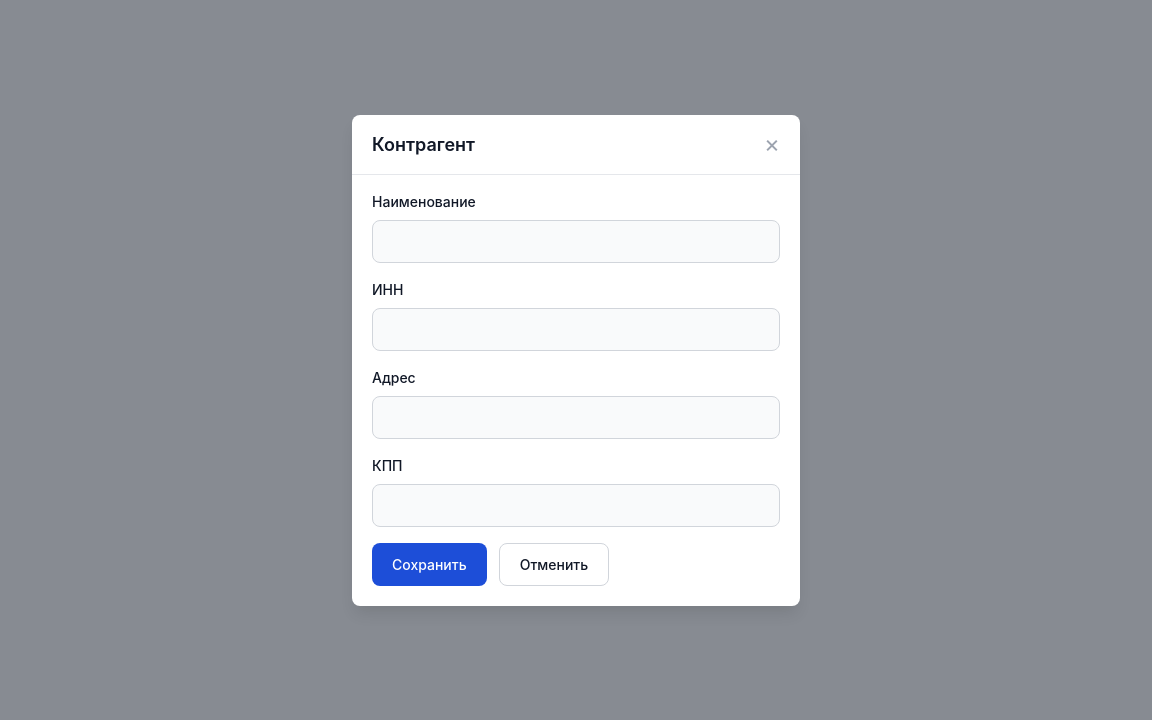
Test: Modal › shows validation errors for invalid inn and kpp
The width and height of the screenshot is (1152, 720).
Type "ООО Тест" into the field labelled "Наименование" at (576, 241), box [372,220,780,262]
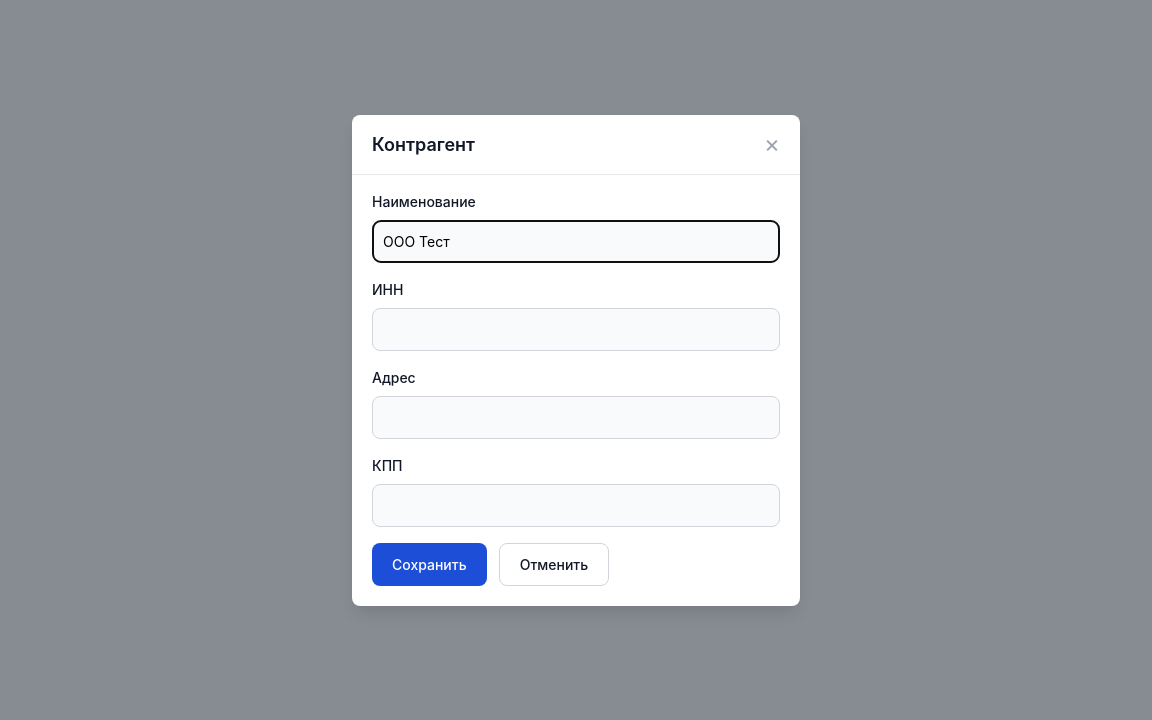
Type "123" into the field labelled "ИНН" at (576, 329), box [372,308,780,350]
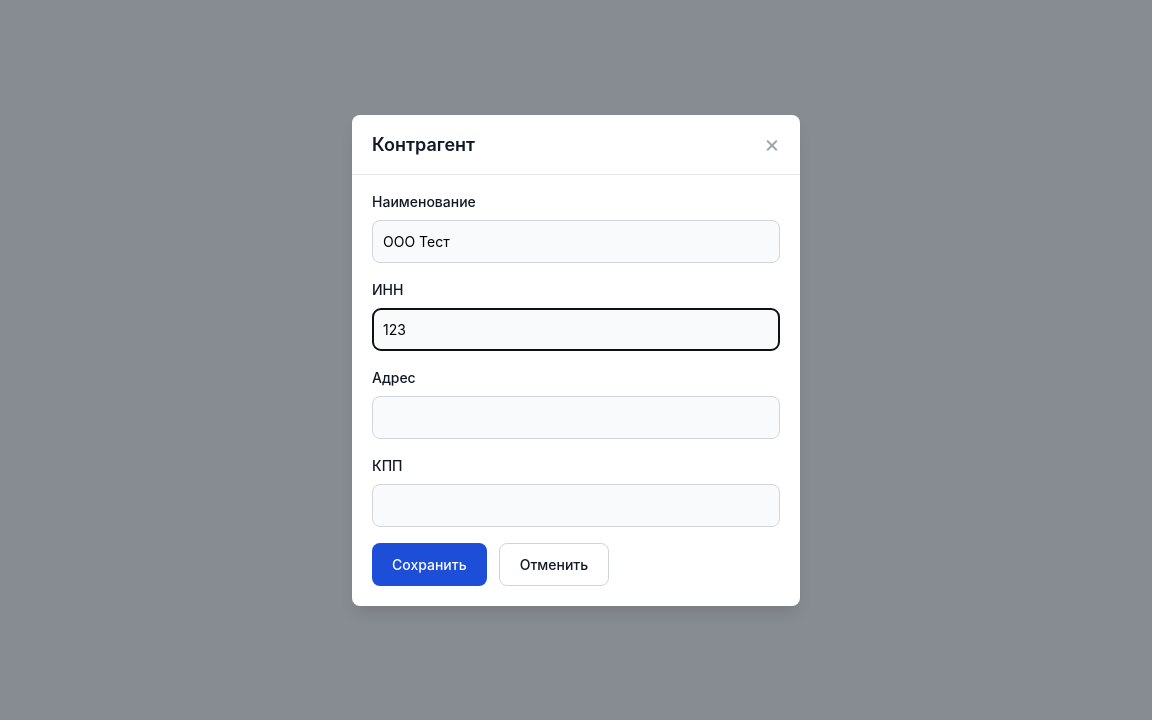
Type "Москва" into the field labelled "Адрес" at (576, 417), box [372,396,780,438]
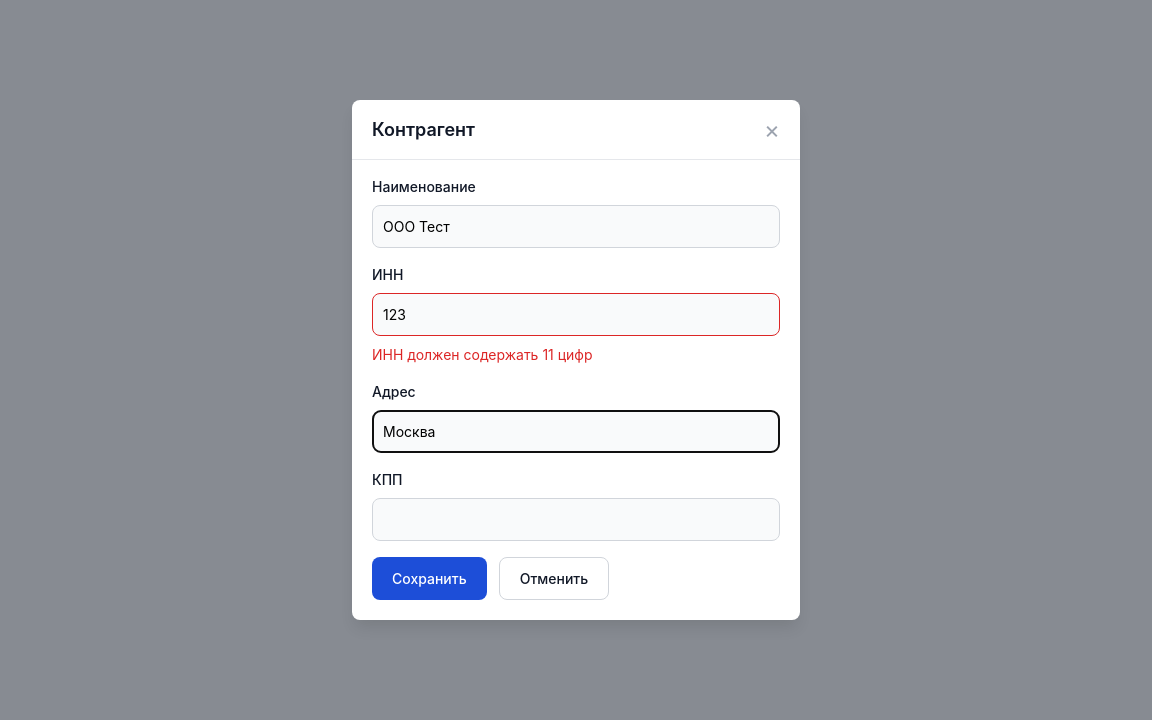
Type "12" into the field labelled "КПП" at (576, 520), box [372,498,780,541]
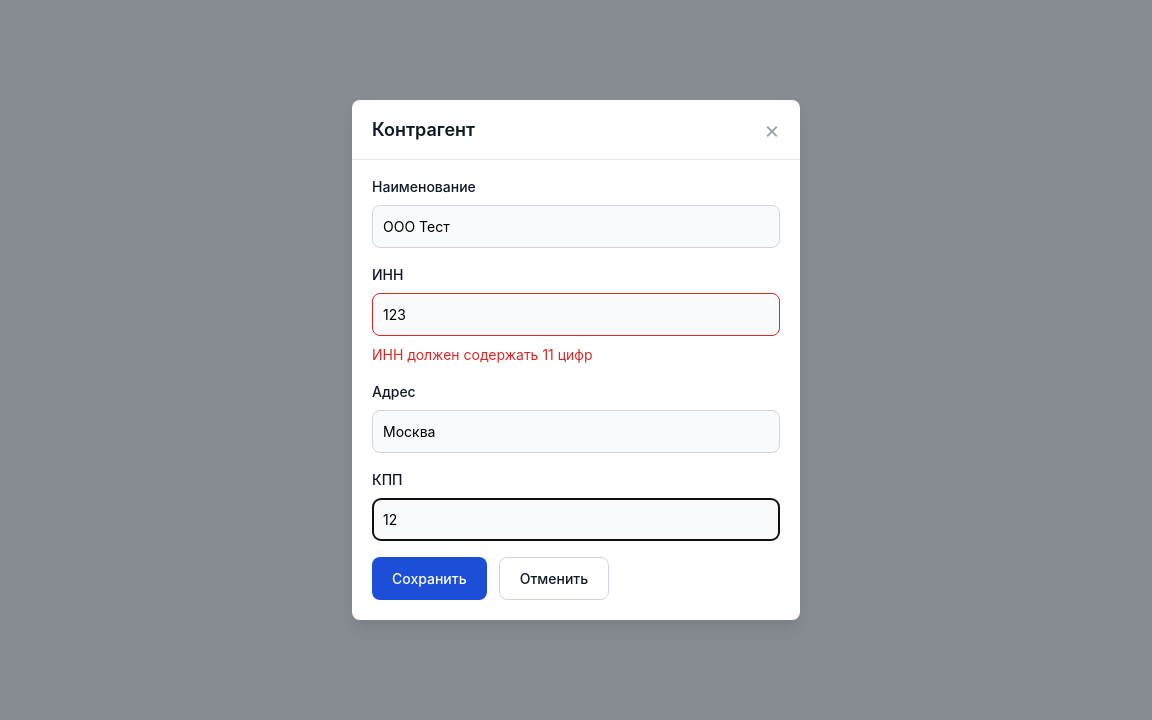
Click the button "Сохранить" at (429, 578), box [372,557,487,600]
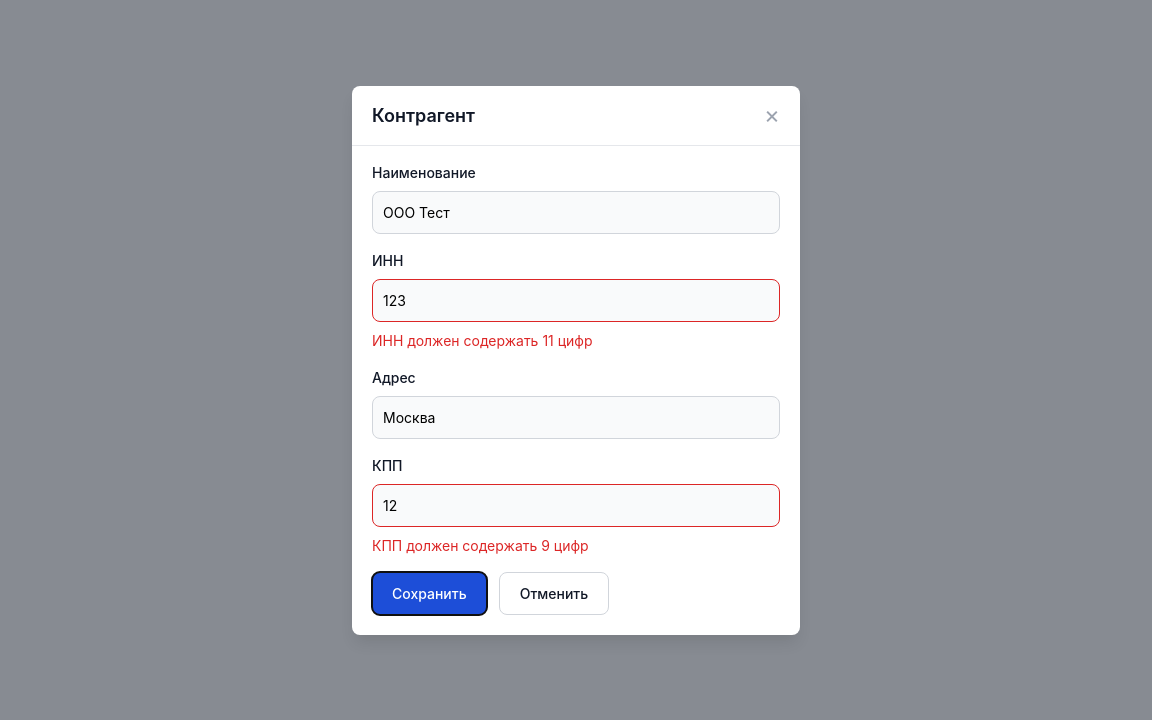
Result: the text "ИНН должен содержать 11 цифр" is shown at [372,332,592,348]
Result: the text "КПП должен содержать 9 цифр" is shown at [372,536,589,554]
